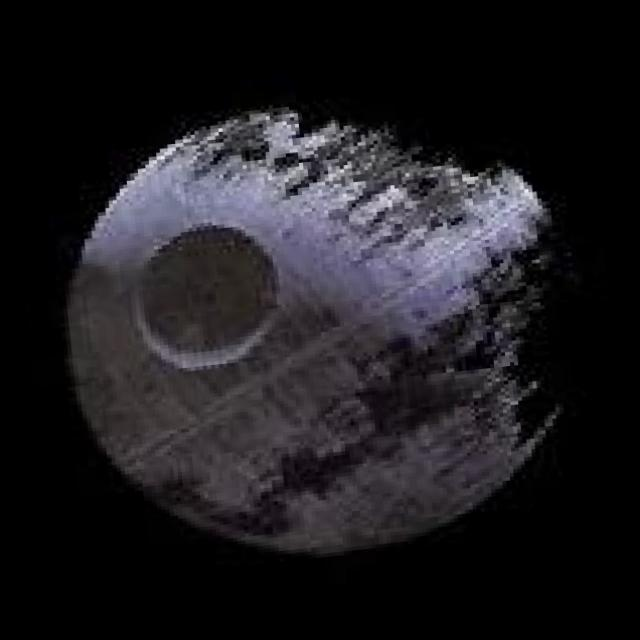Death Star: (38, 71, 596, 588)
